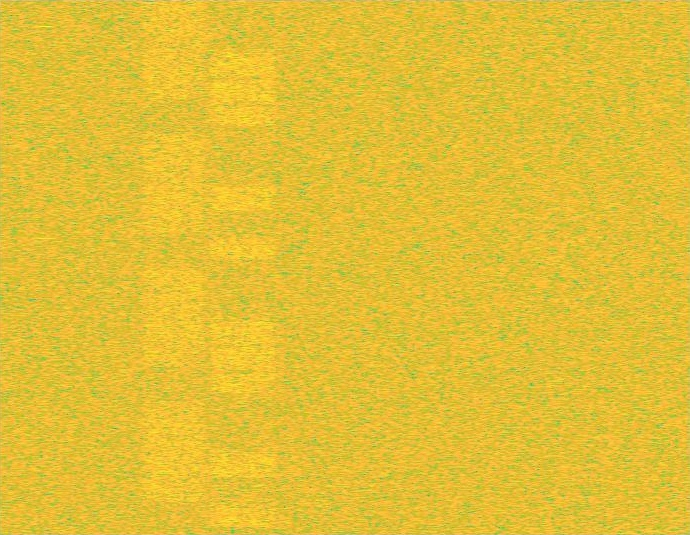5G: (139, 0, 208, 534)
LTE: (208, 0, 277, 534)
Radar: (38, 0, 52, 534)
